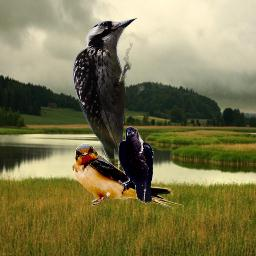Crow: (118, 126, 154, 205)
Swallow: (71, 143, 184, 212)
Woodpecker: (67, 10, 142, 176)
